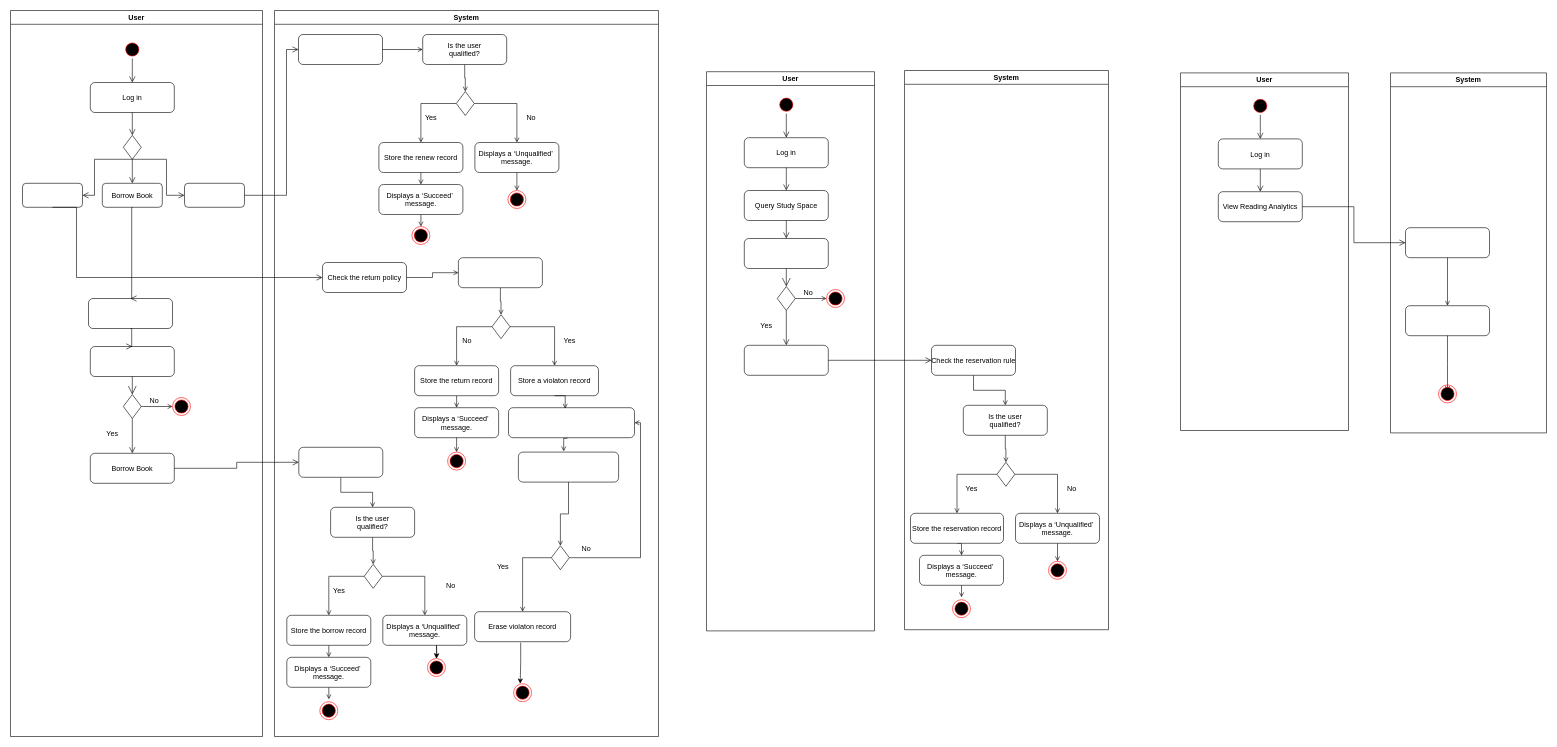
This 1557x747 diagram has some shape labels left out. The shapes that lost their labels are listed below. From the top down, each one's centre as x and y in pixels, then its label:
pixel 340 49: Check the renewing rule
pixel 52 195: Return Book
pixel 214 195: Renew Book
pixel 786 253: Is Space Available？
pixel 1447 242: Check borrow history
pixel 500 272: Is the book overdue?
pixel 130 313: Search Books
pixel 1447 320: Displays on screen
pixel 132 361: Is Book Available？
pixel 786 360: Reserve Space
pixel 571 422: Displays a ‘Overdue,please pay fine’ message.
pixel 340 462: Check the borrowing rule
pixel 568 467: Did user pay fee?
